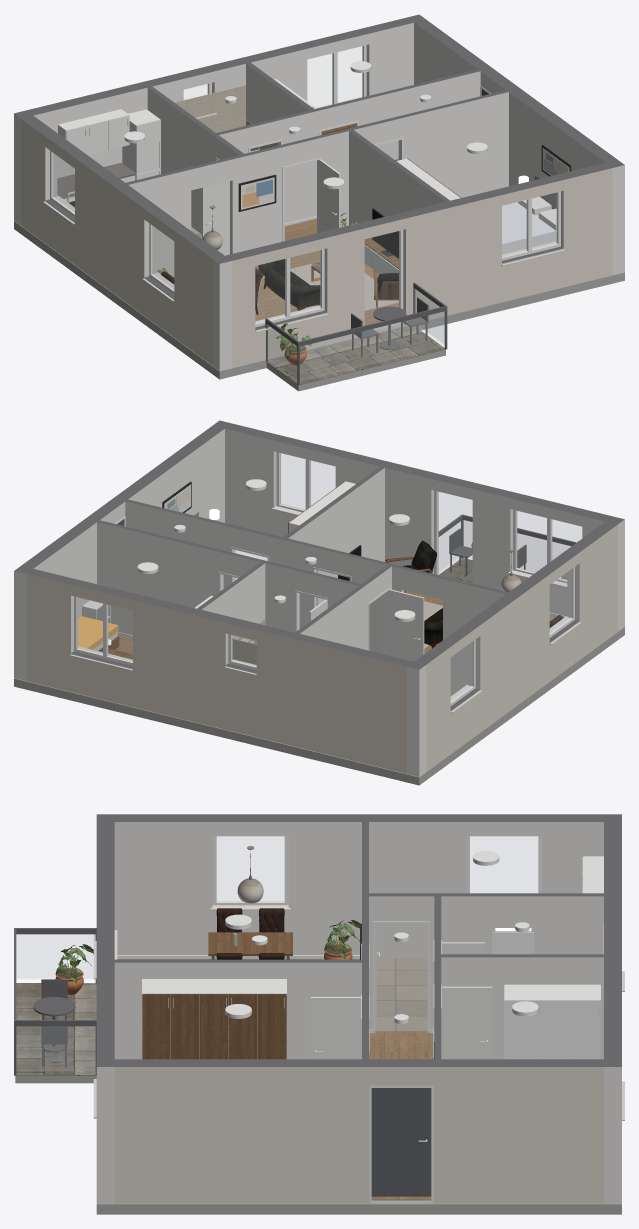
The model's file is wohnung_ar.glb.
3 views of the same model, one above another, from view 1: azimuth 30°, elevation 25°; view 2: azimuth 150°, elevation 25°; view 3: azimuth 270°, elevation 25° (orthographic). The views are drawn at different scales.
Visible parts, largest first — view 1: Wand_aw_sued, Wand_aw_west, Wand_iw_flur_sued, Wand_aw_nord, Wand_aw_ost, Wand_iw_flur_nord, Gelaender_balkon, Wand_iw_wohn_schlaf, Rohdecke_unten, window_aw_sued_1.60, Wand_iw_kueche, Boden_balkon (+22 smaller); view 2: Wand_aw_nord, Wand_aw_west, Wand_aw_sued, Wand_iw_flur_nord, Wand_iw_flur_sued, Wand_aw_ost, Rohdecke_unten, Wand_iw_wohn_schlaf, window_aw_nord_7.60, Wand_iw_kueche, balcony_door_aw_sued_3.90, window_aw_sued_1.60 (+14 smaller); view 3: Wand_aw_ost, Wand_aw_west, wardrobe_26, Wand_iw_kueche, Wand_iw_wohn_schlaf, Gelaender_balkon, entrance_aw_ost_4.90, Wand_aw_sued, wardrobe_33, Wand_aw_nord, Rohdecke_unten, Wand_iw_bad_kind (+22 smaller).
Part boxes in pixels (x1,y1,x2,y2): Wand_aw_sued: [212, 163, 612, 370]; Wand_aw_west: [14, 110, 231, 370]; Wand_iw_flur_sued: [126, 90, 508, 277]; Wand_aw_nord: [14, 17, 413, 225]; Wand_aw_ost: [407, 14, 624, 274]; Wand_iw_flur_nord: [216, 69, 480, 223]; Gelaender_balkon: [265, 282, 447, 385]; Wand_iw_wohn_schlaf: [349, 130, 453, 225]; Rohdecke_unten: [14, 221, 624, 379]; window_aw_sued_1.60: [255, 249, 328, 332]; Wand_iw_kueche: [144, 84, 245, 233]; Boden_balkon: [267, 326, 444, 384]; Wand_aw_nord: [26, 569, 426, 776]; Wand_aw_west: [407, 516, 624, 776]; Wand_aw_sued: [225, 423, 624, 631]; Wand_iw_flur_nord: [97, 520, 360, 635]; Wand_iw_flur_sued: [125, 499, 508, 679]; Wand_aw_ost: [14, 420, 231, 680]; Rohdecke_unten: [14, 627, 624, 785]; Wand_iw_wohn_schlaf: [284, 464, 387, 561]; window_aw_nord_7.60: [70, 596, 132, 670]; Wand_iw_kueche: [292, 564, 392, 650]; balcony_door_aw_sued_3.90: [434, 490, 472, 582]; window_aw_sued_1.60: [508, 509, 581, 587]; Wand_aw_ost: [96, 1059, 621, 1203]; Wand_aw_west: [96, 814, 621, 958]; wardrobe_26: [142, 979, 286, 1059]; Wand_iw_kueche: [365, 893, 612, 1032]; Wand_iw_wohn_schlaf: [105, 959, 361, 1059]; Gelaender_balkon: [14, 928, 96, 1075]; entrance_aw_ost_4.90: [369, 1085, 433, 1203]; Wand_aw_sued: [96, 822, 114, 1203]; wardrobe_33: [504, 984, 600, 1059]; Wand_aw_nord: [604, 822, 621, 1203]; Rohdecke_unten: [96, 1200, 621, 1214]; Wand_iw_bad_kind: [441, 954, 612, 1059].
Size of the model in its own units: 9.96 by 2.7 by 10.12.
62 materials, 16 textured.
